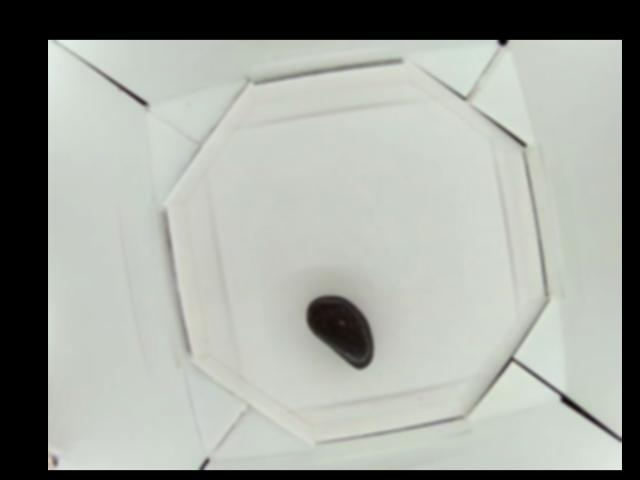Pebble: (304, 294, 374, 369)
